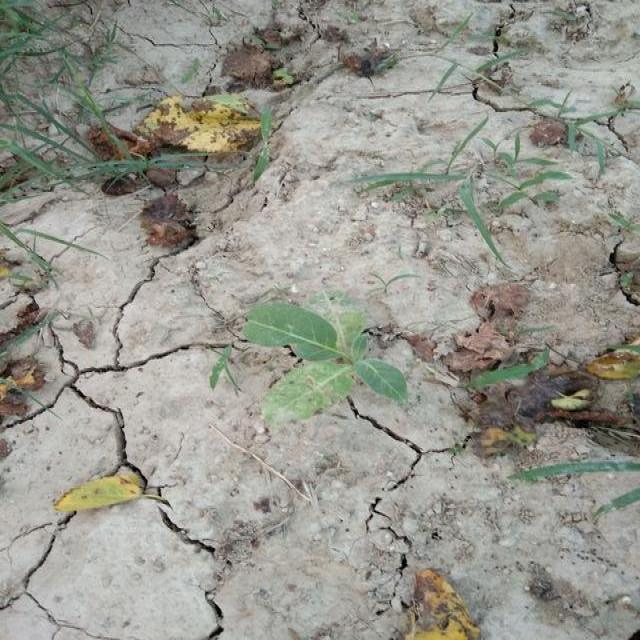crop: (242, 302, 414, 434)
